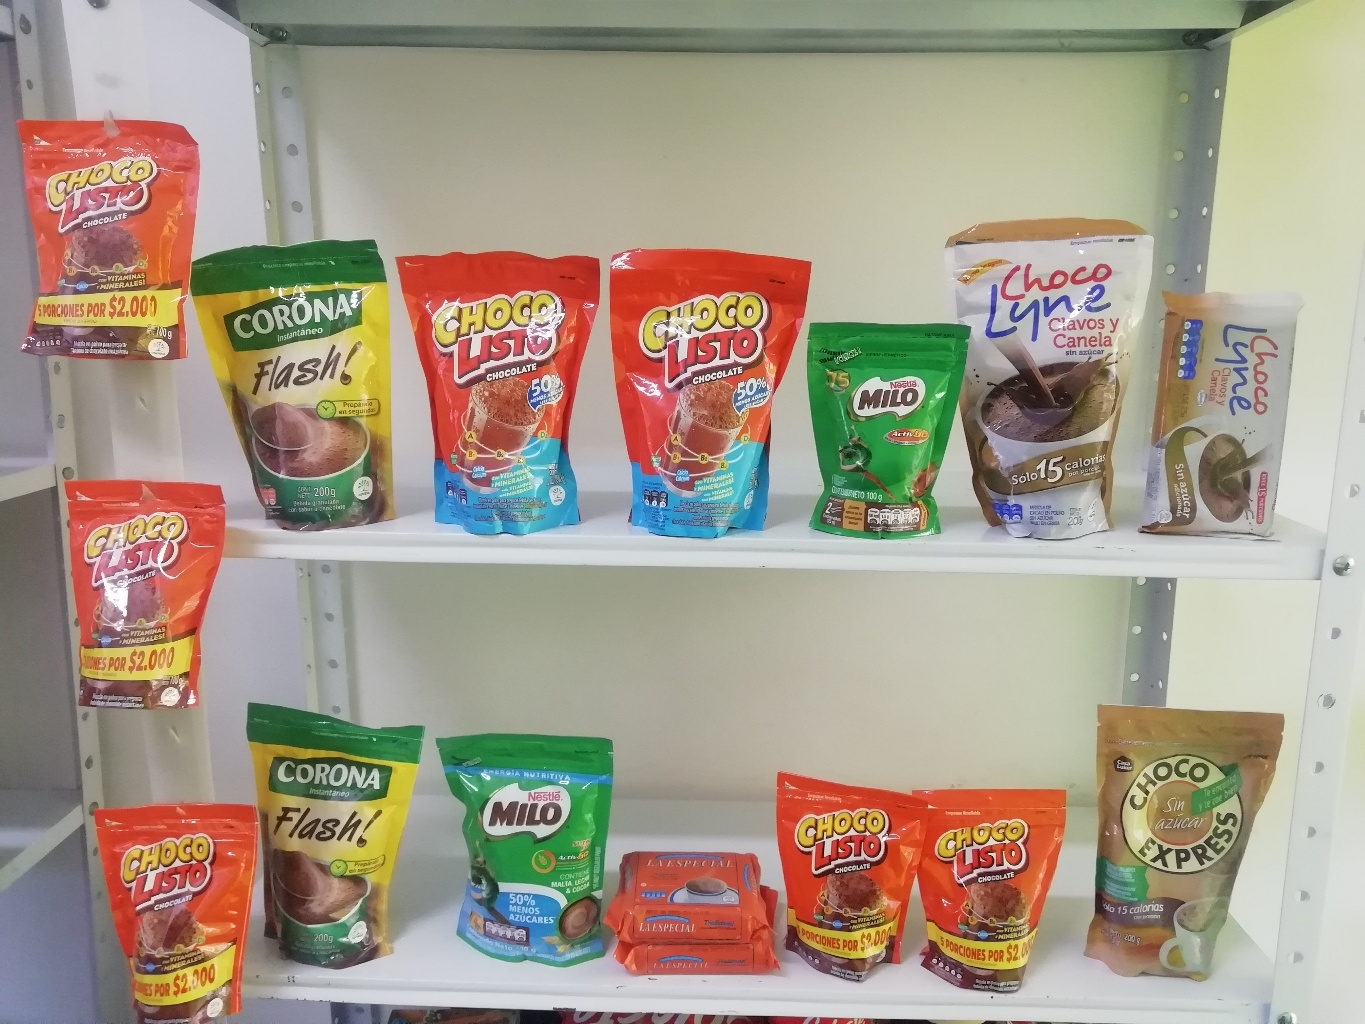COL0170104DYP20000: (392, 245, 599, 536)
COL0170203DYP10000: (805, 319, 978, 539)
COL0170205DYP20000: (430, 733, 621, 967)
